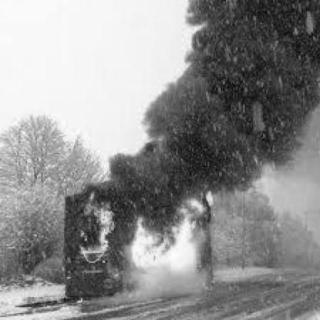Fire: (125, 188, 218, 284), (74, 186, 112, 264)
Smoke: (83, 1, 315, 187)
